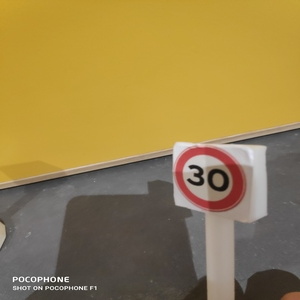30-bord: (175, 143, 250, 215)
